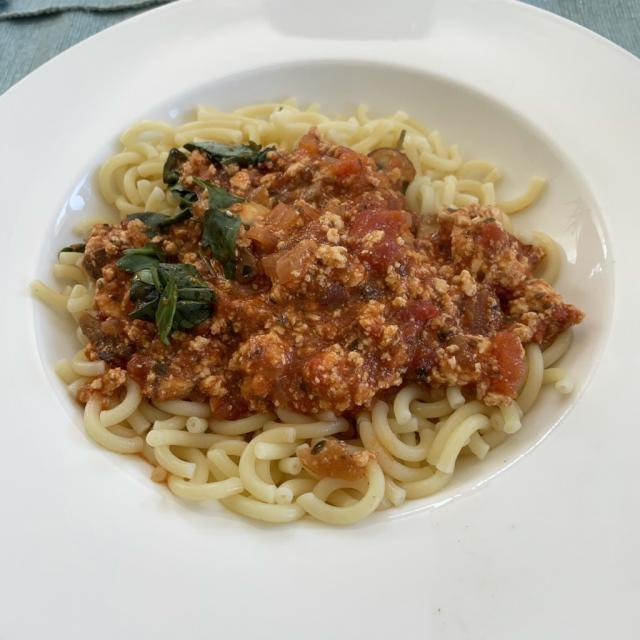pasta: (52, 107, 566, 518)
tomato-sauce: (74, 130, 591, 490)
